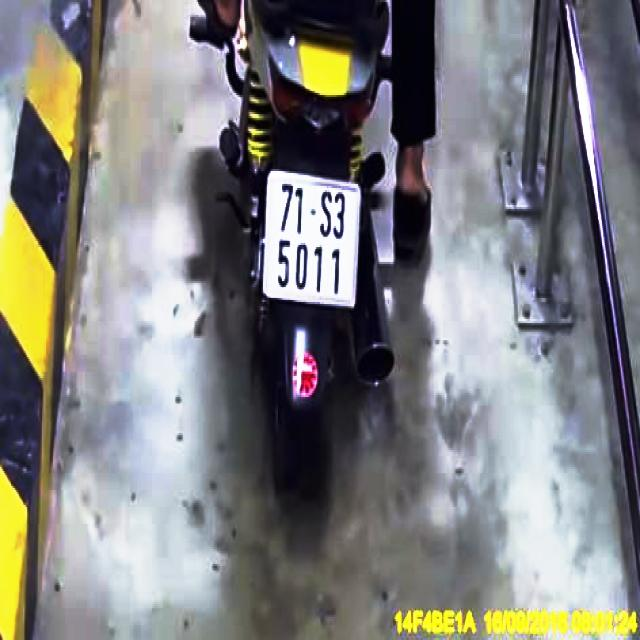license_plate: (264, 172, 360, 308)
